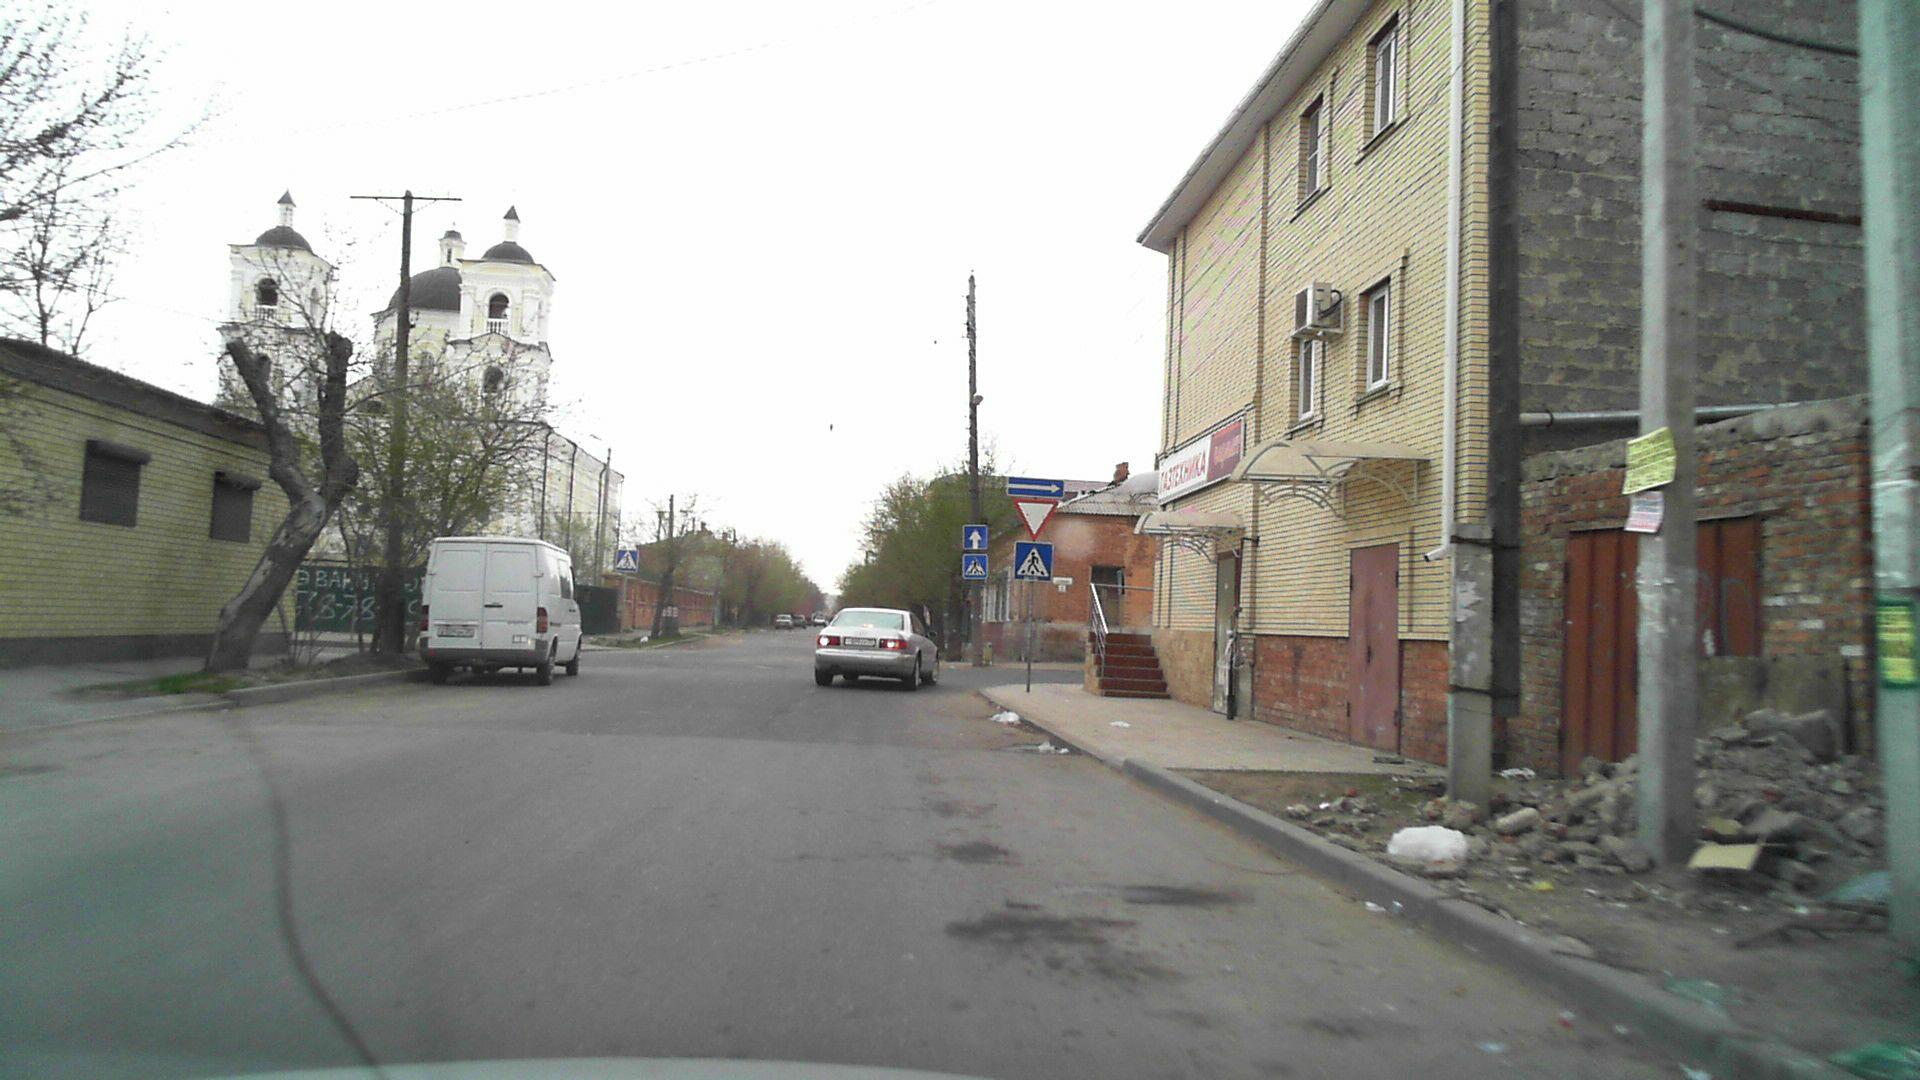2_4: (1011, 498, 1059, 542)
5_19_1: (1015, 542, 1052, 582), (963, 554, 988, 580)
5_19_2: (616, 547, 638, 572)
5_5: (963, 524, 989, 551)
5_7_1: (1007, 477, 1063, 497)
